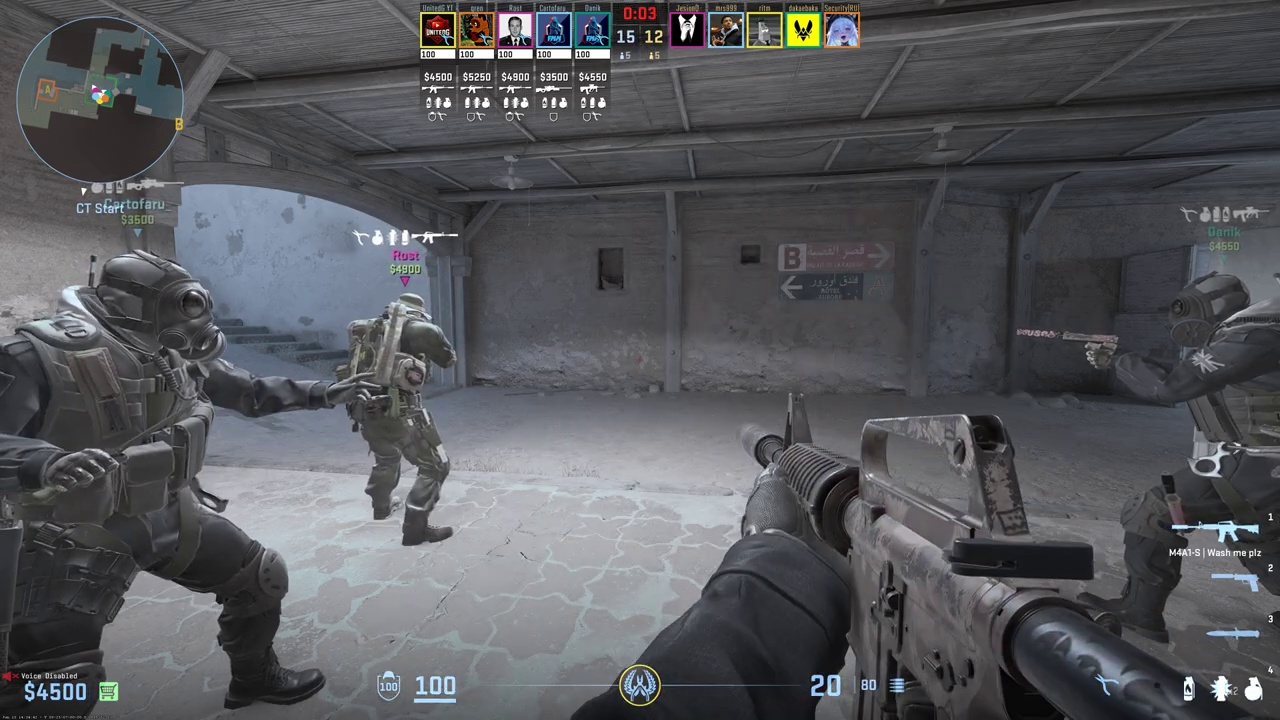CT: (0, 250, 283, 719), (1133, 273, 1280, 635), (348, 293, 448, 550)
